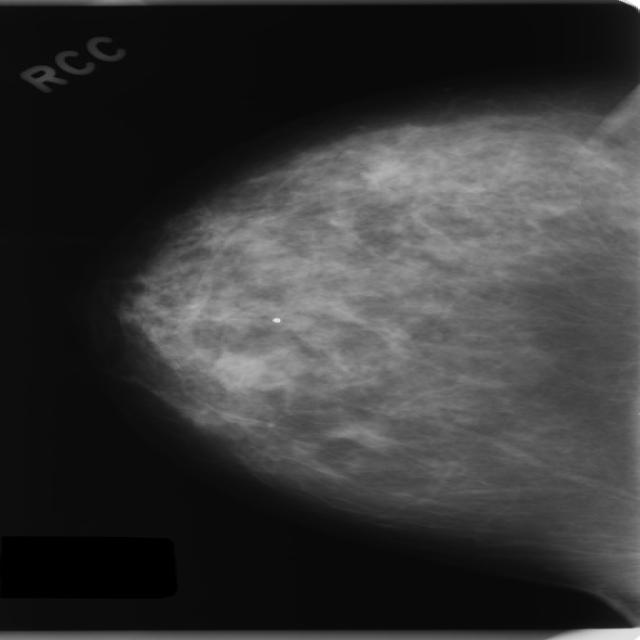tumour: (206, 350, 272, 390)
